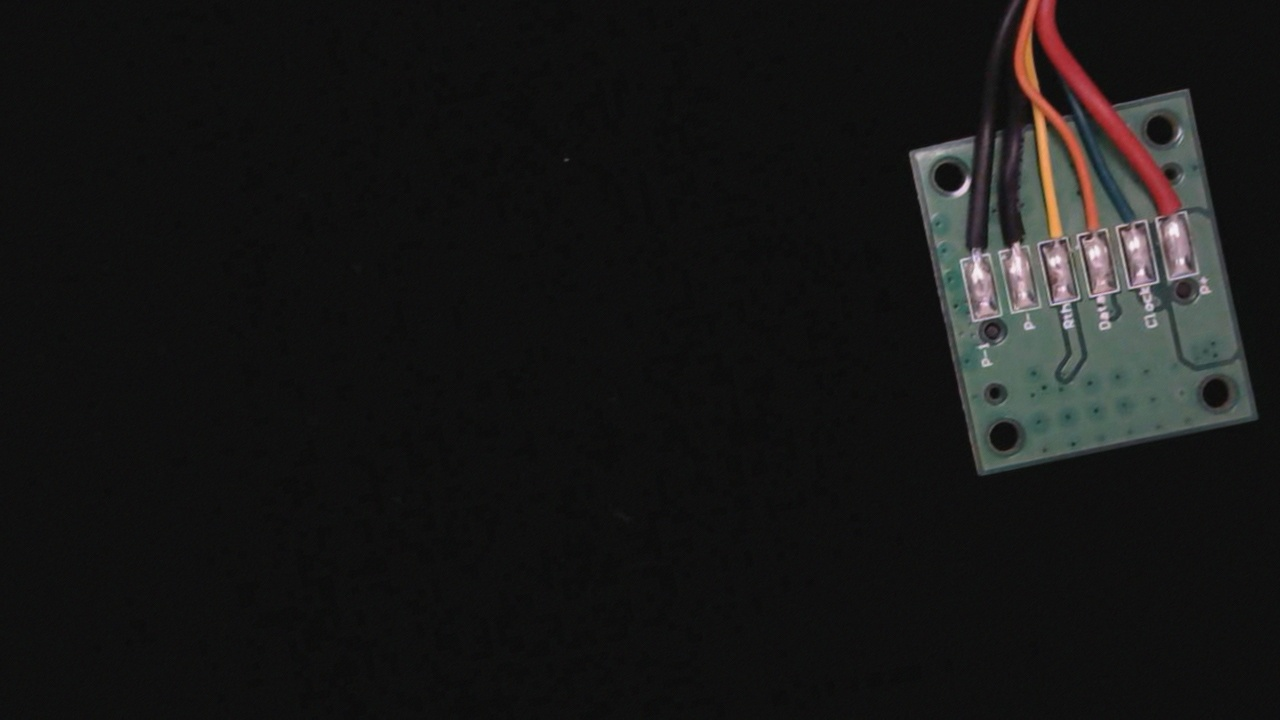Black: (989, 191, 1033, 265)
Black1: (948, 201, 993, 273)
Green: (1103, 167, 1151, 243)
Orange: (1063, 173, 1110, 250)
Red: (1143, 157, 1190, 232)
Yellow: (1025, 177, 1074, 257)
